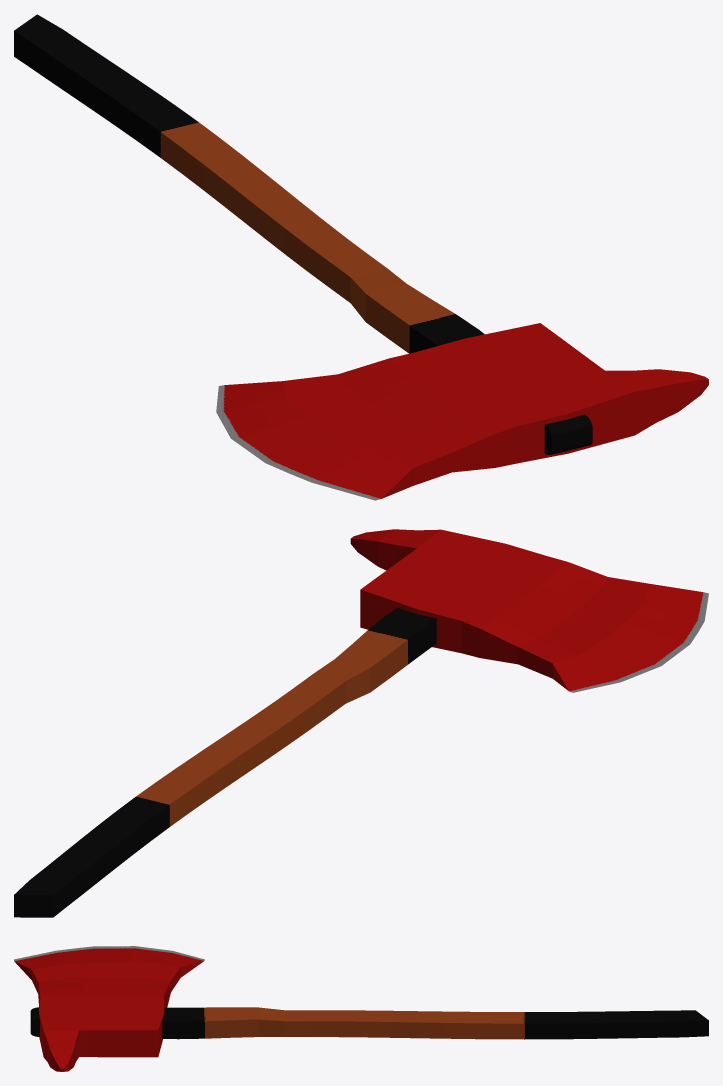
File: Axe.fbx
3 views of the same model, one above another, from view 1: azimuth 30°, elevation 25°; view 2: azimuth 150°, elevation 25°; view 3: azimuth 270°, elevation 25° (orthographic). The views are drawn at different scales.
Parts seen in each view (by area): view 1: Axe with Texture; view 2: Axe with Texture; view 3: Axe with Texture.
Boxes of the visible parts, x1,y1,x2,y2 form: Axe with Texture: [14, 14, 708, 500]; Axe with Texture: [14, 529, 708, 917]; Axe with Texture: [14, 946, 708, 1071].
Bounding box in the file's own units: 0.3949 × 0.0398 × 0.9356.
1 material, 1 textured.
